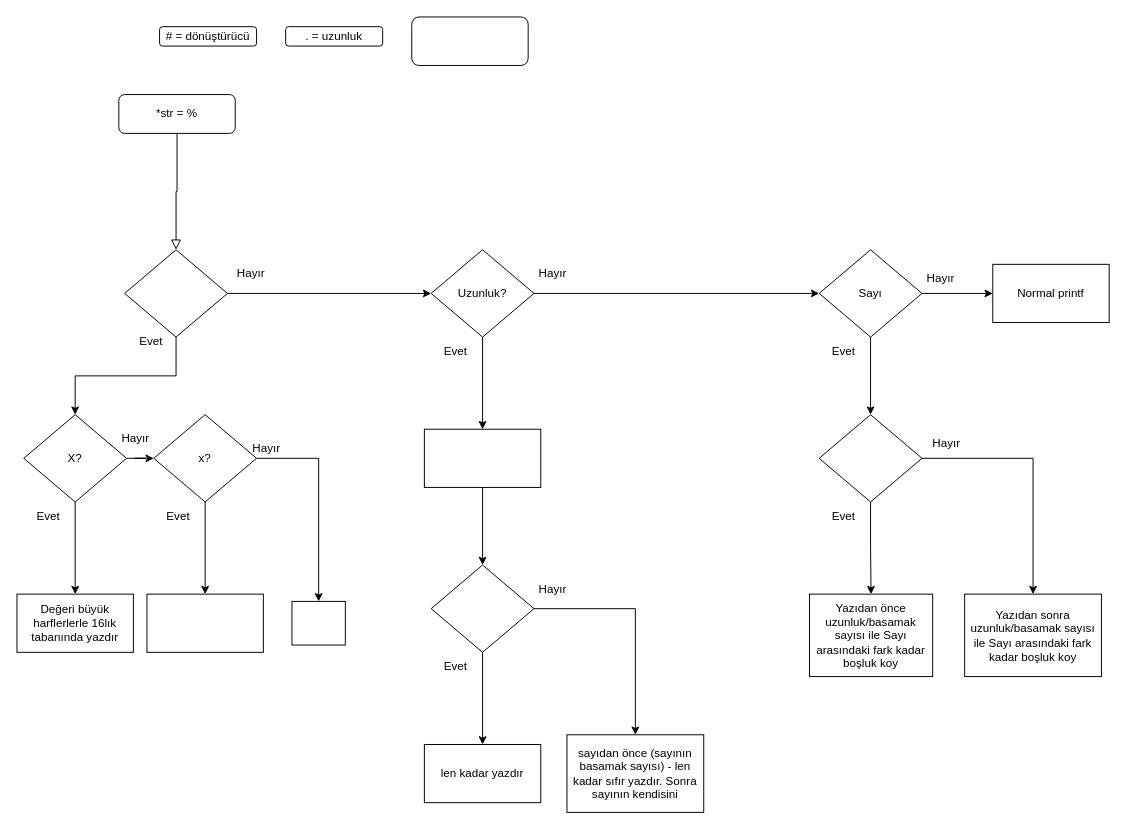
Some shapes in this 1126 by 829 pixel diagram are drawn without their labels. The centre of each missing label's shape, as x and y in pixels:
Değeri küçük harflerlerle 16lık tabanında yazdır: [204,622]
Dönüştürücü?: [175,293]
Hata: [318,622]
len = nokta ile format arasındaki sayı: [482,457]
Sayı > 0: [870,458]
Sayı örn: "%10x" = 10: [469,40]
string mi?: [482,608]
